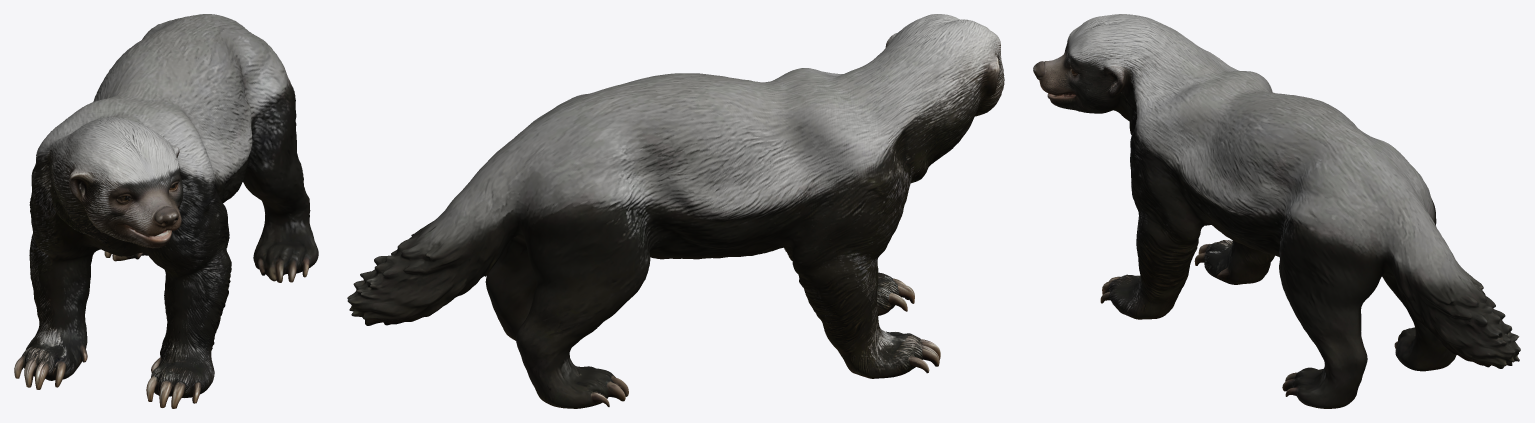
3 renders of one model, left to right at view 1: azimuth 30°, elevation 25°; view 2: azimuth 150°, elevation 25°; view 3: azimuth 270°, elevation 25°, orthographic. The views are drawn at different scales.
Parts seen in each view (by area): view 1: tripo_node_de88c426-5bc0-4883-9b6c-c66b198d6b21; view 2: tripo_node_de88c426-5bc0-4883-9b6c-c66b198d6b21; view 3: tripo_node_de88c426-5bc0-4883-9b6c-c66b198d6b21.
Part boxes in pixels (box(x1,y1,x2,y2)): tripo_node_de88c426-5bc0-4883-9b6c-c66b198d6b21: box(14, 14, 318, 408); tripo_node_de88c426-5bc0-4883-9b6c-c66b198d6b21: box(347, 14, 1004, 408); tripo_node_de88c426-5bc0-4883-9b6c-c66b198d6b21: box(1033, 14, 1520, 408).
Size of the model in its own units: 0.8611 by 0.5717 by 0.9797.
Materials: 1 (1 with a texture image).
